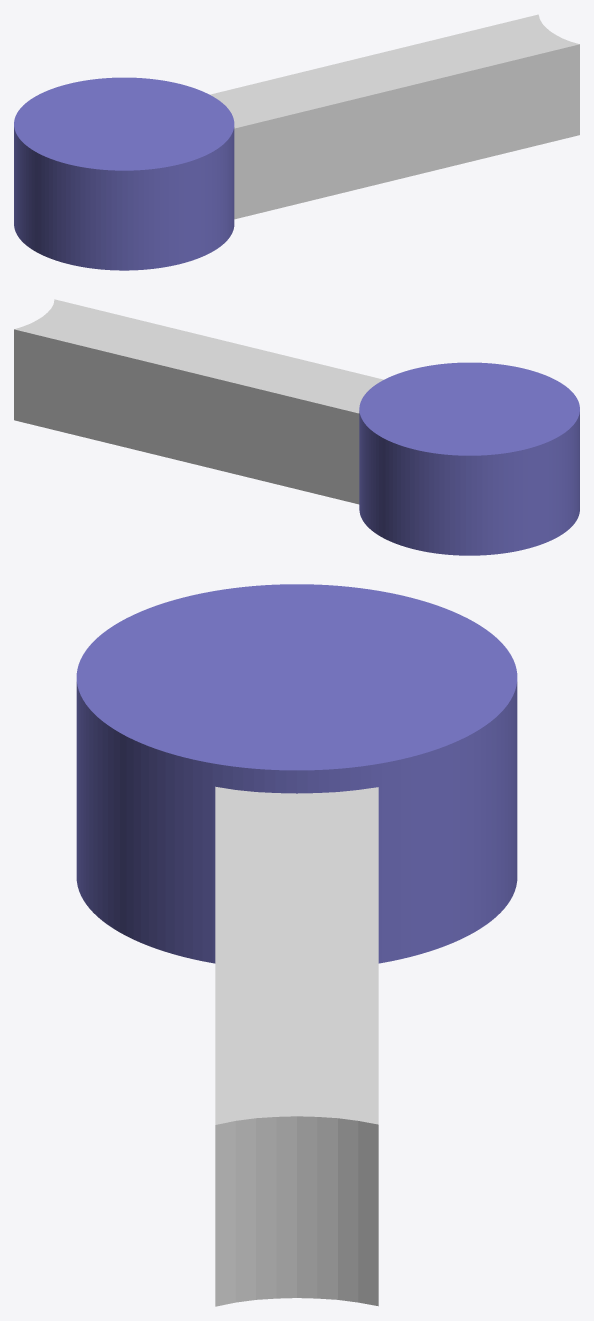
The picture shows the model from 3 angles, top to bottom: view 1: azimuth 30°, elevation 25°; view 2: azimuth 150°, elevation 25°; view 3: azimuth 270°, elevation 25°; orthographic projection. The views are drawn at different scales.
Parts seen in each view (by area): view 1: Link2; view 2: Link2; view 3: Link2.
Boxes of the visible parts, bbox=[...] form: Link2: bbox=[14, 14, 579, 270]; Link2: bbox=[14, 299, 579, 555]; Link2: bbox=[76, 584, 517, 1306].
Size of the model in its own units: 0.6432 by 0.2313 by 0.1184.
